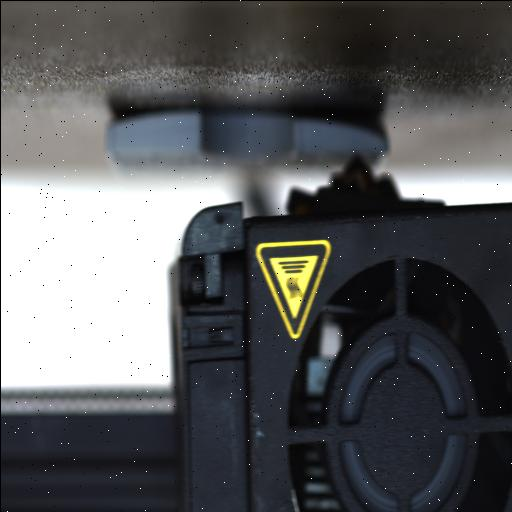warp: (304, 106, 386, 144)
